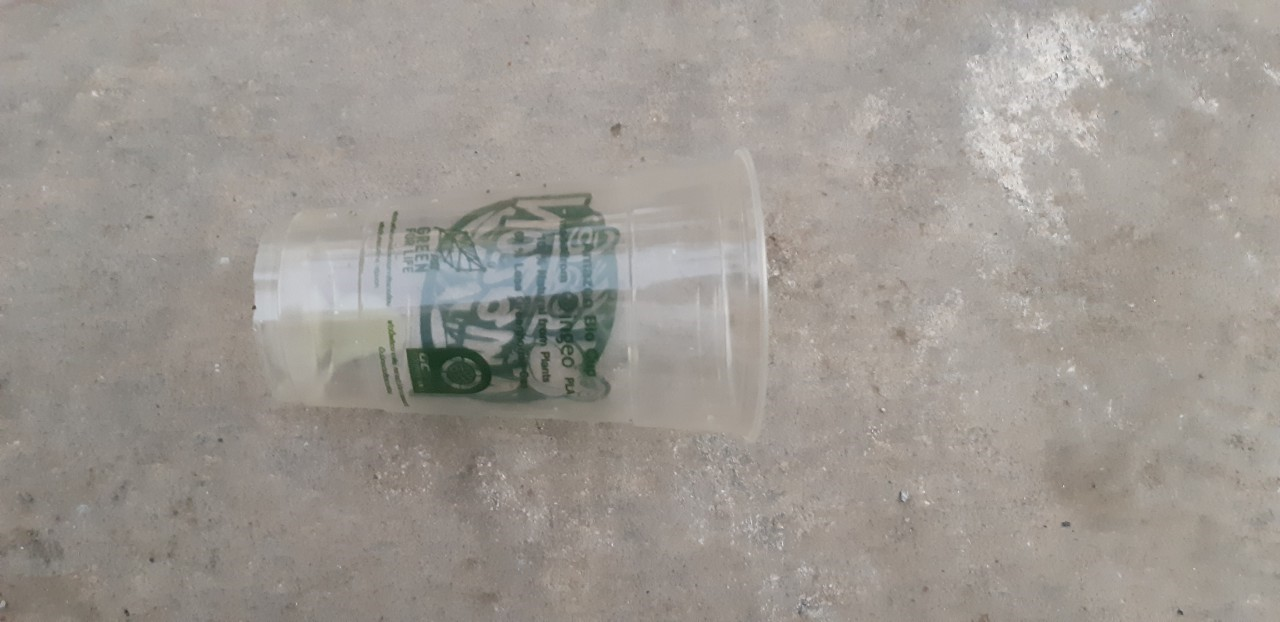PlasticCup: (248, 143, 768, 452)
